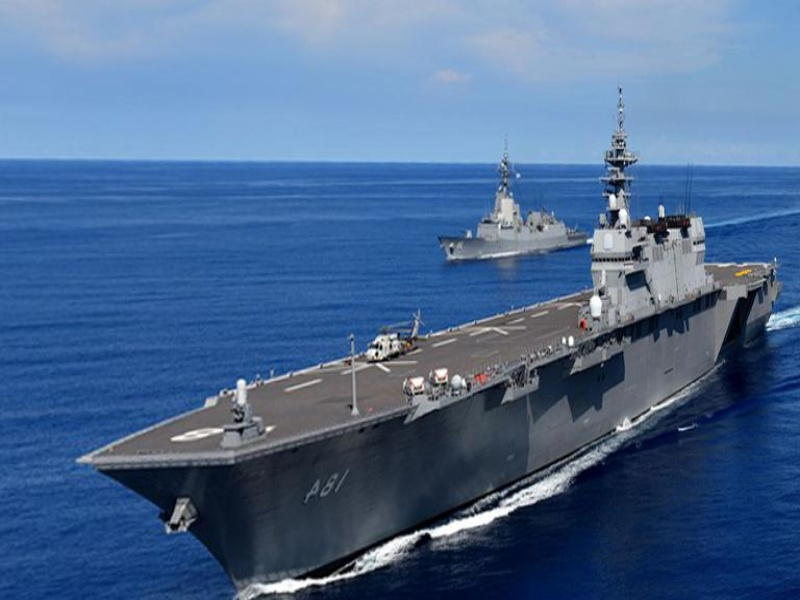carrier: (107, 240, 774, 588)
cruise: (420, 164, 586, 259)
